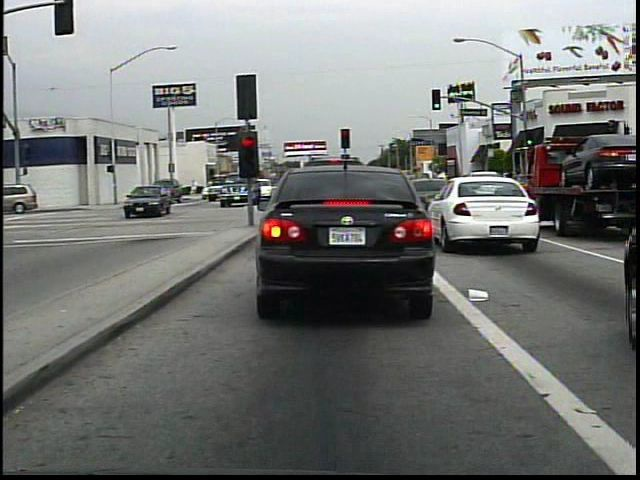person: (190, 176, 201, 200)
